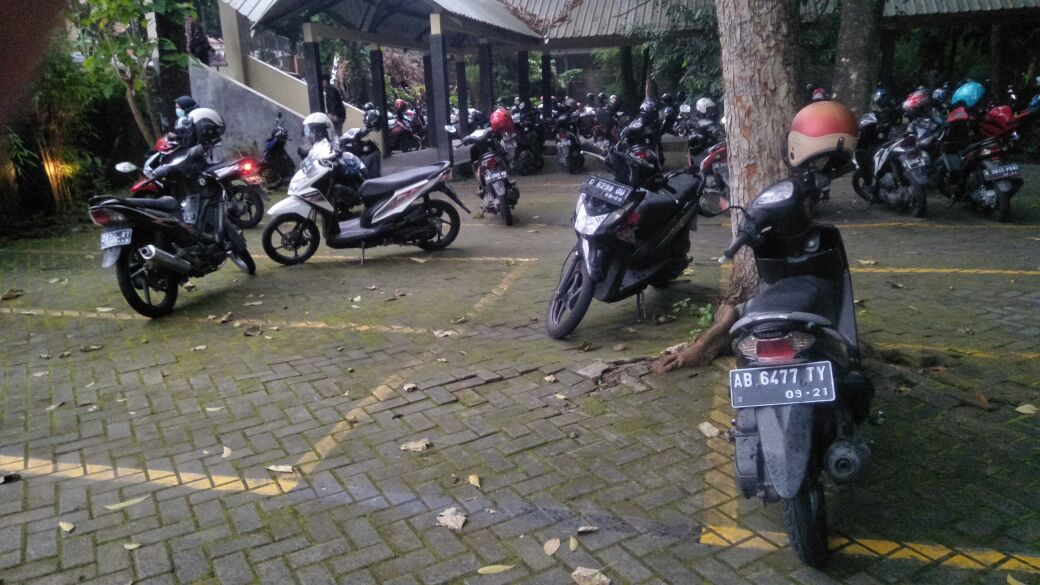plate: (729, 361, 835, 408), (581, 176, 632, 206), (99, 227, 132, 248)
